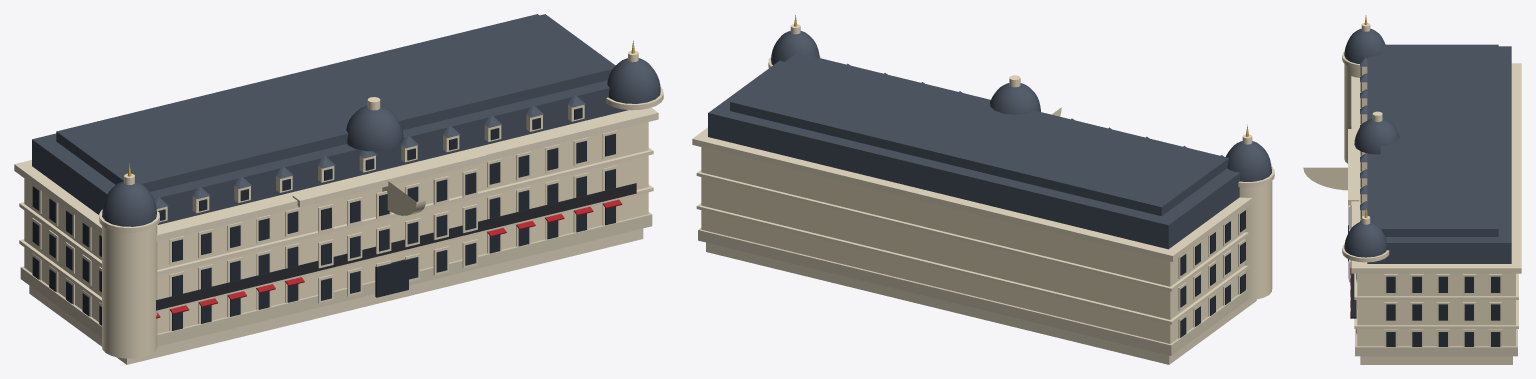
Rendered from monaco-hotel-de-paris.glb.
The picture shows the model from 3 angles, left to right: view 1: azimuth 30°, elevation 25°; view 2: azimuth 150°, elevation 25°; view 3: azimuth 270°, elevation 25°; orthographic projection. The views are drawn at different scales.
Visible parts, largest first — view 1: monaco-marco (×17); view 2: monaco-marco (×12); view 3: monaco-marco (×16).
Boxes of the visible parts, x1=… form: monaco-marco (×17): x1=14, y1=14, x2=660, y2=364; monaco-marco (×12): x1=692, y1=30, x2=1272, y2=364; monaco-marco (×16): x1=1303, y1=28, x2=1521, y2=364.
Size of the model in its own units: 72.32 by 24.62 by 31.33.
